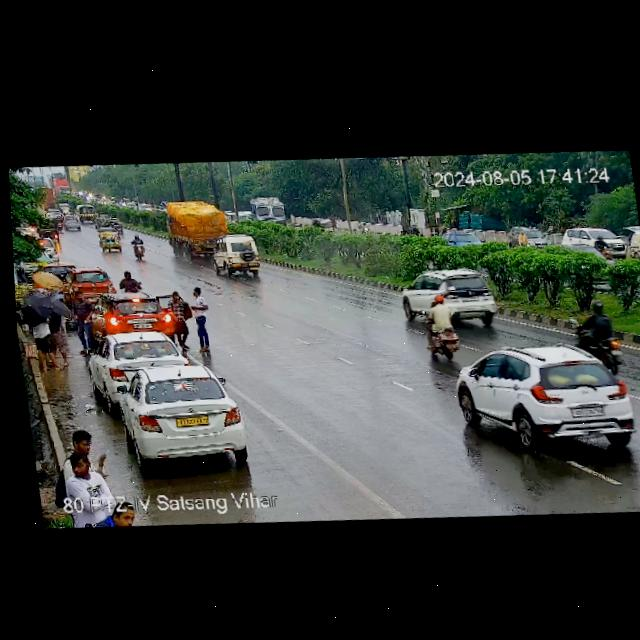car: (456, 334, 640, 457), (101, 355, 254, 473), (88, 325, 193, 394), (397, 263, 502, 326), (95, 288, 176, 335), (208, 228, 264, 278), (561, 222, 628, 263), (65, 266, 113, 301), (507, 220, 549, 250), (39, 259, 80, 282), (97, 227, 125, 253), (94, 213, 128, 232), (312, 213, 336, 238), (76, 202, 101, 222), (59, 214, 84, 232), (127, 197, 153, 214), (47, 208, 62, 220), (58, 201, 71, 214)
motorcycle: (571, 306, 626, 359), (420, 297, 462, 362), (593, 234, 612, 263), (130, 234, 146, 260), (517, 230, 530, 250), (360, 219, 371, 236)
person: (24, 289, 78, 377), (62, 452, 121, 529), (164, 283, 211, 359), (54, 425, 112, 478), (71, 289, 96, 355), (115, 267, 143, 294), (410, 222, 420, 236)
truck: (159, 196, 232, 259), (250, 193, 290, 230), (34, 183, 58, 210), (53, 176, 72, 197)
